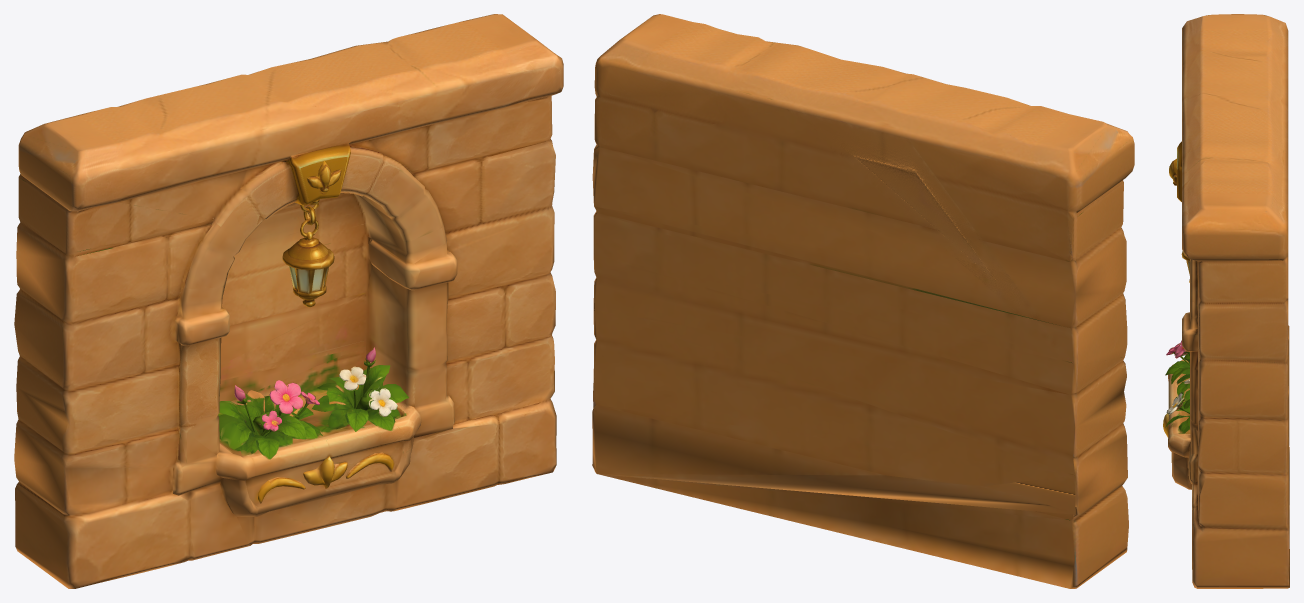
File: niche.glb
3 views of the same model, side by side, from view 1: azimuth 30°, elevation 25°; view 2: azimuth 150°, elevation 25°; view 3: azimuth 270°, elevation 25° (orthographic). The views are drawn at different scales.
Size of the model in its own units: 0.957 by 0.8057 by 0.2461.
1 material, 1 textured.
